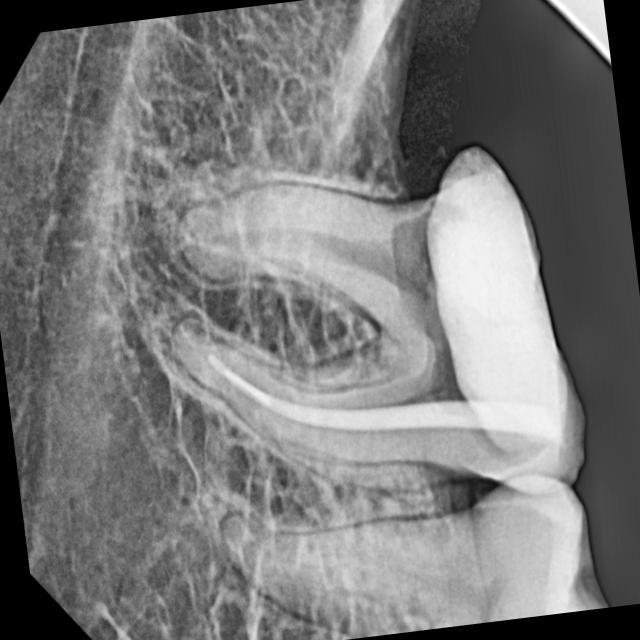RCT: (162, 318, 465, 495)
Restoration: (412, 126, 596, 507)
